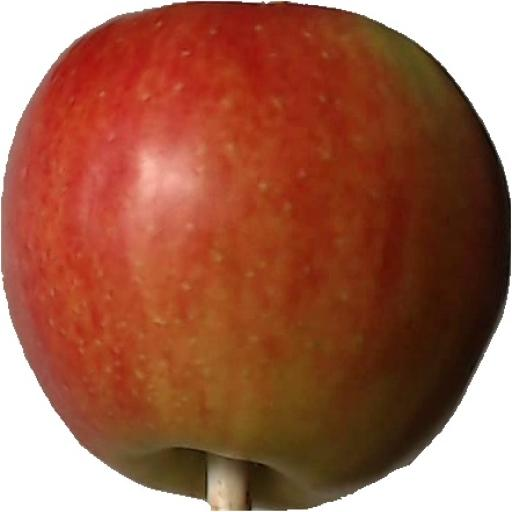apple-ripe: (0, 0, 512, 507)
